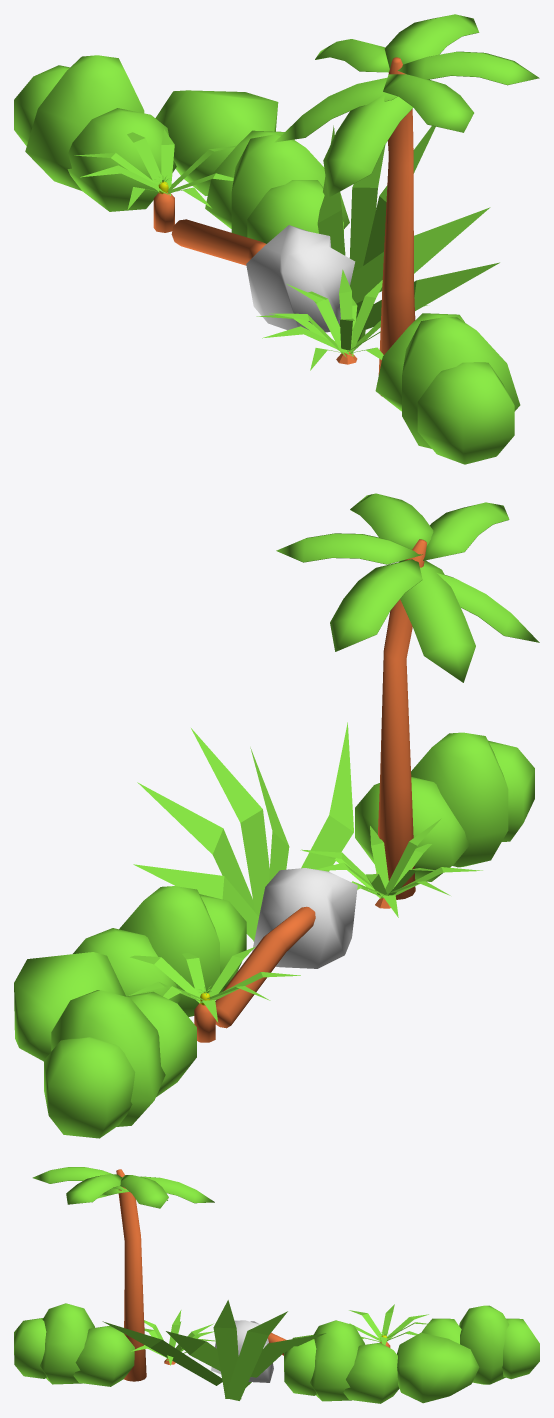
The model's file is palma.fbx.
3 renders of one model, top to bottom at view 1: azimuth 30°, elevation 25°; view 2: azimuth 150°, elevation 25°; view 3: azimuth 270°, elevation 25°, orthographic. The views are drawn at different scales.
Visible parts, largest first — view 1: Сфера.004, brevno, Сфера, Сфера.009, Cone, Сфера.002, Сфера.005, Сфера.006, Cube.003, Сфера.007, Cube, Cube.001 (+17 smaller); view 2: Cone, Сфера.005, Сфера.001, brevno, Сфера.009, Сфера, Сфера.006, Cube.004, Сфера.003, Cube.005, Cylinder, Plane.014 (+12 smaller); view 3: Сфера.009, Cone, Сфера.005, Сфера.006, Сфера.003, Сфера, Сфера.008, Сфера.001, Сфера.004, Plane.017, Сфера.007, Plane.014 (+9 smaller).
Boxes of the visible parts, box(x1,y1,x2,y2) form: Сфера.004: box(417, 362, 514, 464); brevno: box(246, 225, 355, 332); Сфера: box(25, 55, 144, 190); Сфера.009: box(155, 90, 278, 195); Cone: box(378, 57, 415, 396); Сфера.002: box(67, 108, 176, 211); Сфера.005: box(402, 317, 520, 448); Сфера.006: box(231, 134, 349, 237); Cube.003: box(323, 94, 413, 197); Сфера.007: box(247, 180, 343, 243); Cube: box(383, 74, 473, 132); Cube.001: box(397, 51, 539, 85); Cone: box(376, 539, 426, 899); Сфера.005: box(411, 732, 508, 867); Сфера.001: box(44, 1037, 135, 1138); brevno: box(252, 868, 357, 968); Сфера.009: box(14, 952, 125, 1061); Сфера: box(51, 990, 165, 1126); Сфера.006: box(119, 886, 219, 1016); Cube.004: box(399, 560, 475, 682); Сфера.003: box(355, 777, 470, 881); Cube.005: box(330, 559, 422, 651); Cylinder: box(215, 906, 315, 1028); Plane.014: box(191, 728, 269, 916); Сфера.009: box(397, 1332, 479, 1403); Cone: box(116, 1169, 146, 1381); Сфера.005: box(40, 1303, 94, 1384); Сфера.006: box(310, 1320, 364, 1401); Сфера.003: box(73, 1325, 134, 1386); Сфера: box(459, 1305, 509, 1384); Сфера.008: box(343, 1342, 399, 1403); Сфера.001: box(502, 1318, 539, 1379); Сфера.004: box(14, 1318, 46, 1378); Plane.017: box(225, 1311, 287, 1400); Сфера.007: box(284, 1335, 316, 1395); Plane.014: box(213, 1300, 241, 1399).
Size of the model in its own units: 505 by 774 by 1665.
